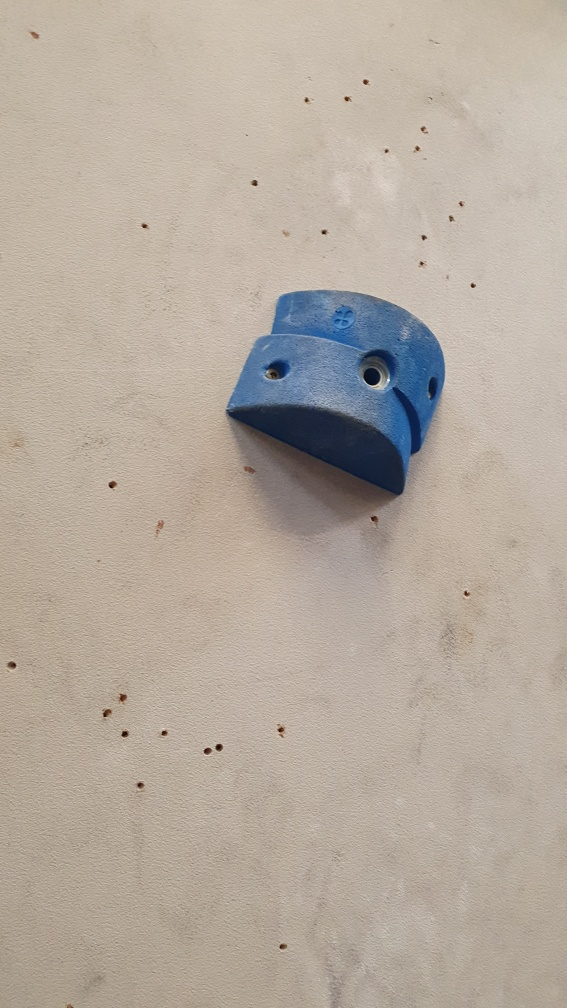Pinch: (228, 285, 453, 496)
